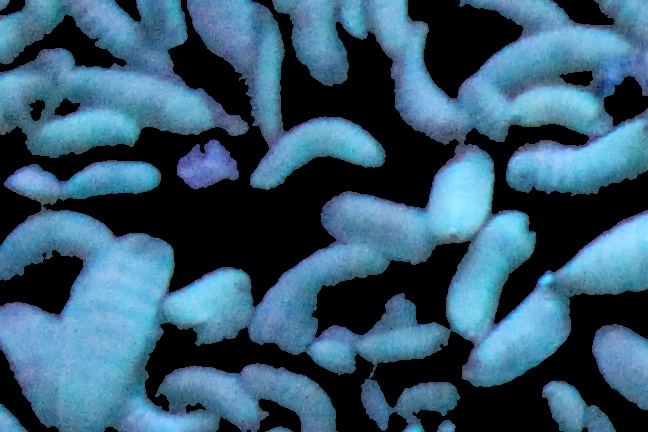larvae: (45, 233, 172, 432), (251, 242, 385, 356), (441, 212, 533, 350), (456, 283, 570, 383), (508, 116, 648, 195), (254, 114, 385, 194), (59, 66, 209, 134), (313, 181, 440, 260), (484, 27, 636, 88), (1, 209, 117, 281), (561, 210, 648, 299), (1, 299, 58, 431), (66, 1, 169, 73), (394, 25, 461, 135), (431, 140, 501, 245), (161, 361, 257, 425), (245, 366, 335, 432), (287, 1, 351, 84), (591, 322, 648, 415), (29, 109, 141, 156), (56, 160, 168, 207), (162, 268, 254, 321), (503, 87, 610, 131), (356, 319, 458, 363), (251, 26, 290, 138), (188, 1, 254, 64), (449, 1, 575, 31), (114, 398, 221, 432), (459, 81, 508, 143), (369, 1, 417, 54), (137, 1, 188, 49), (5, 168, 68, 205)
